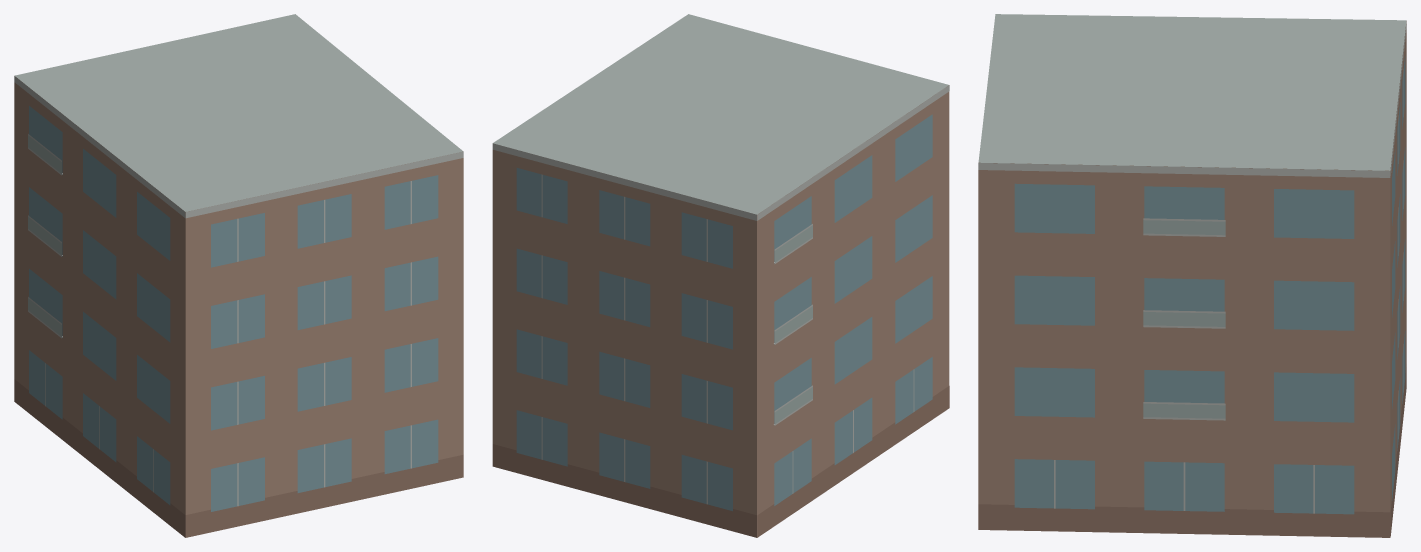
File: survey-upis-32709257.glb
3 views of the same model, side by side, from view 1: azimuth 30°, elevation 25°; view 2: azimuth 150°, elevation 25°; view 3: azimuth 270°, elevation 25° (orthographic). The views are drawn at different scales.
Parts seen in each view (by area): view 1: survey-upis-32709257.tmp; view 2: survey-upis-32709257.tmp; view 3: survey-upis-32709257.tmp.
Boxes of the visible parts, box(x1,y1,x2,y2) form: survey-upis-32709257.tmp: box(14, 14, 463, 537); survey-upis-32709257.tmp: box(492, 14, 949, 537); survey-upis-32709257.tmp: box(978, 14, 1406, 537).
Bounding box in the file's own units: 11.37 × 12.4 × 13.12.
